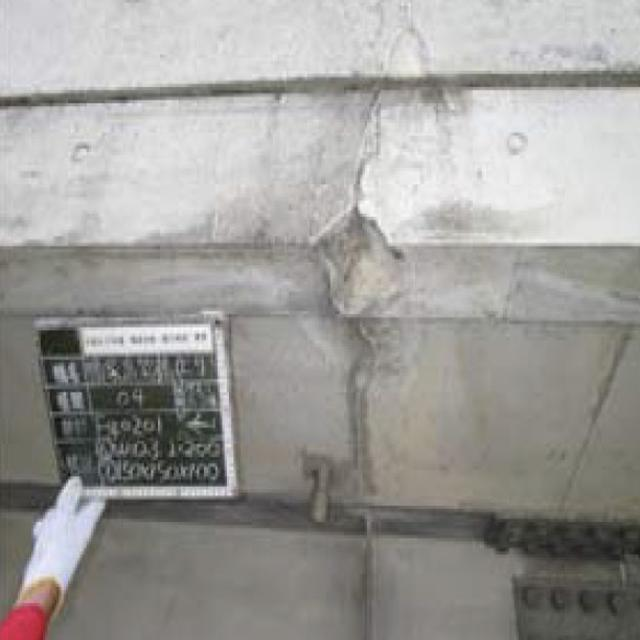spalling: (311, 187, 416, 333)
